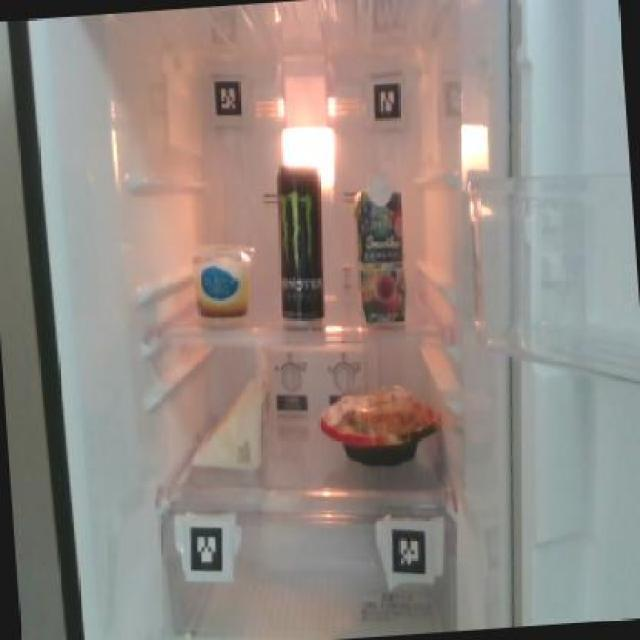bento: (315, 388, 440, 468)
can: (270, 162, 330, 326)
pudding: (186, 234, 257, 328)
sandwich: (181, 353, 274, 478)
smoothie: (350, 170, 412, 324)
